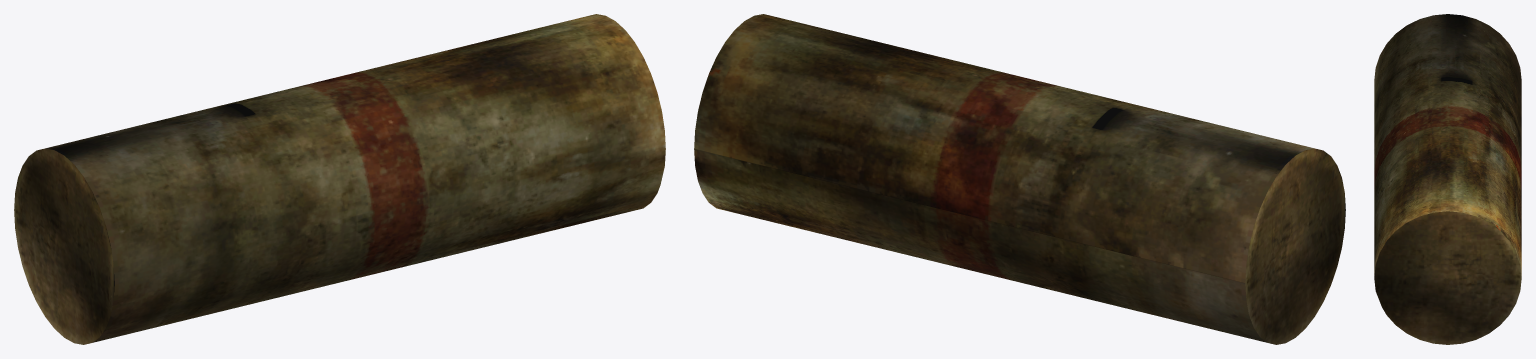
The model's file is tanker.obj.
The picture shows the model from 3 angles, left to right: view 1: azimuth 30°, elevation 25°; view 2: azimuth 150°, elevation 25°; view 3: azimuth 270°, elevation 25°; orthographic projection. The views are drawn at different scales.
Parts seen in each view (by area): view 1: Cylinder; view 2: Cylinder; view 3: Cylinder.
Boxes of the visible parts, x1,y1,x2,y2 form: Cylinder: [14, 14, 665, 344]; Cylinder: [694, 14, 1345, 344]; Cylinder: [1374, 14, 1521, 344].
Size of the model in its own units: 10.01 by 3.16 by 3.16.
Materials: 1 (1 with a texture image).
